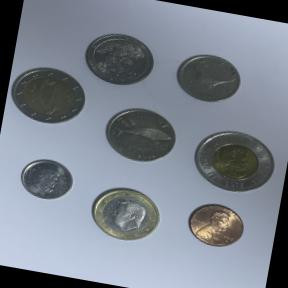1 Euro-B: (81, 177, 170, 249)
2 Euro-B: (2, 59, 91, 133)
Canada-10cent-B: (14, 150, 80, 204)
Canada-2Dollar-B: (181, 118, 283, 206)
Croatia-2Kune-B: (92, 96, 184, 174)
US-1cent-B: (179, 194, 252, 253)
US-25cent-B: (79, 28, 161, 92)
